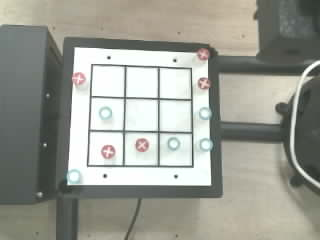blue circle: (67, 169, 81, 183), (167, 137, 180, 150), (99, 106, 111, 119), (200, 138, 212, 151), (199, 107, 211, 119)
board: (67, 47, 213, 185)
cells: (89, 132, 122, 164), (125, 133, 157, 165), (125, 99, 157, 130), (91, 98, 123, 129), (91, 66, 124, 96), (160, 134, 191, 165), (160, 100, 191, 131), (160, 68, 191, 98), (126, 67, 157, 97)
grid: (87, 64, 193, 167)
red cross: (101, 145, 115, 158), (135, 138, 148, 151), (72, 72, 85, 85), (198, 78, 211, 90), (197, 48, 209, 60)
